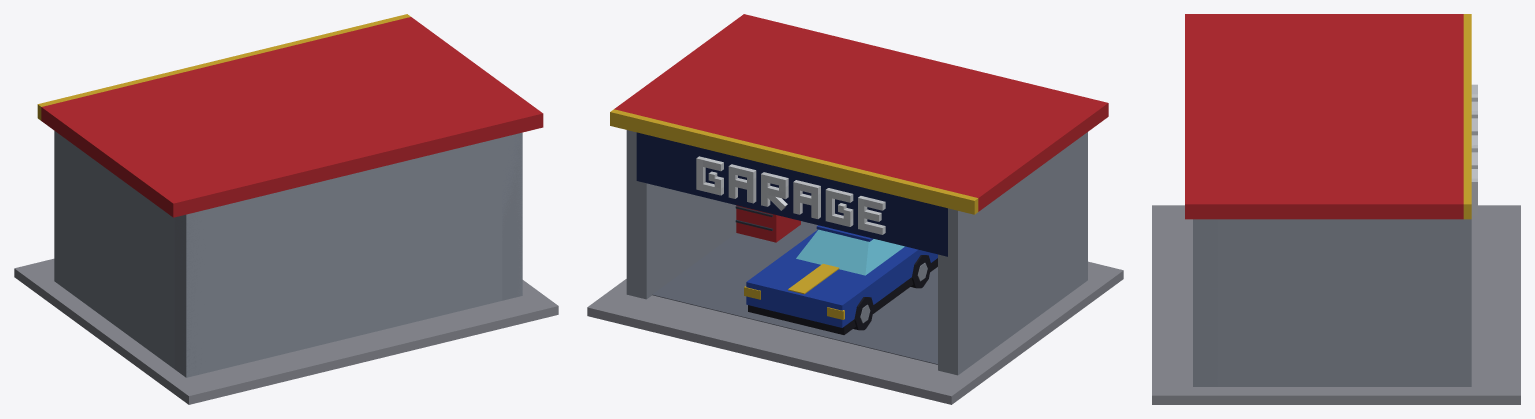
The model's file is Decor_HeroHQ_Garage.fbx.
The picture shows the model from 3 angles, left to right: view 1: azimuth 30°, elevation 25°; view 2: azimuth 150°, elevation 25°; view 3: azimuth 270°, elevation 25°; orthographic projection. The views are drawn at different scales.
Visible parts, largest first — view 1: Garage_Body; view 2: Garage_Body; view 3: Garage_Body.
Part boxes in pixels (box(x1,y1,x2,y2)): Garage_Body: box(14, 14, 558, 404); Garage_Body: box(587, 14, 1123, 404); Garage_Body: box(1152, 14, 1520, 404).
Size of the model in its own units: 22 by 10.8 by 18.
